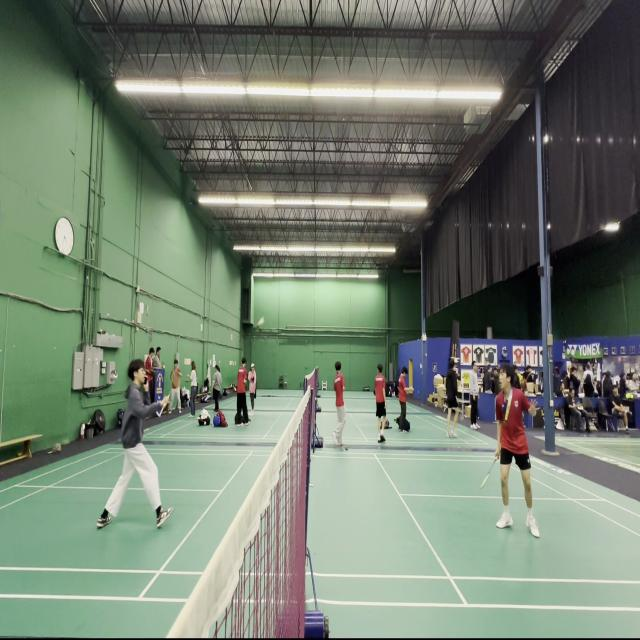shuttlecock: (256, 317, 264, 326)
